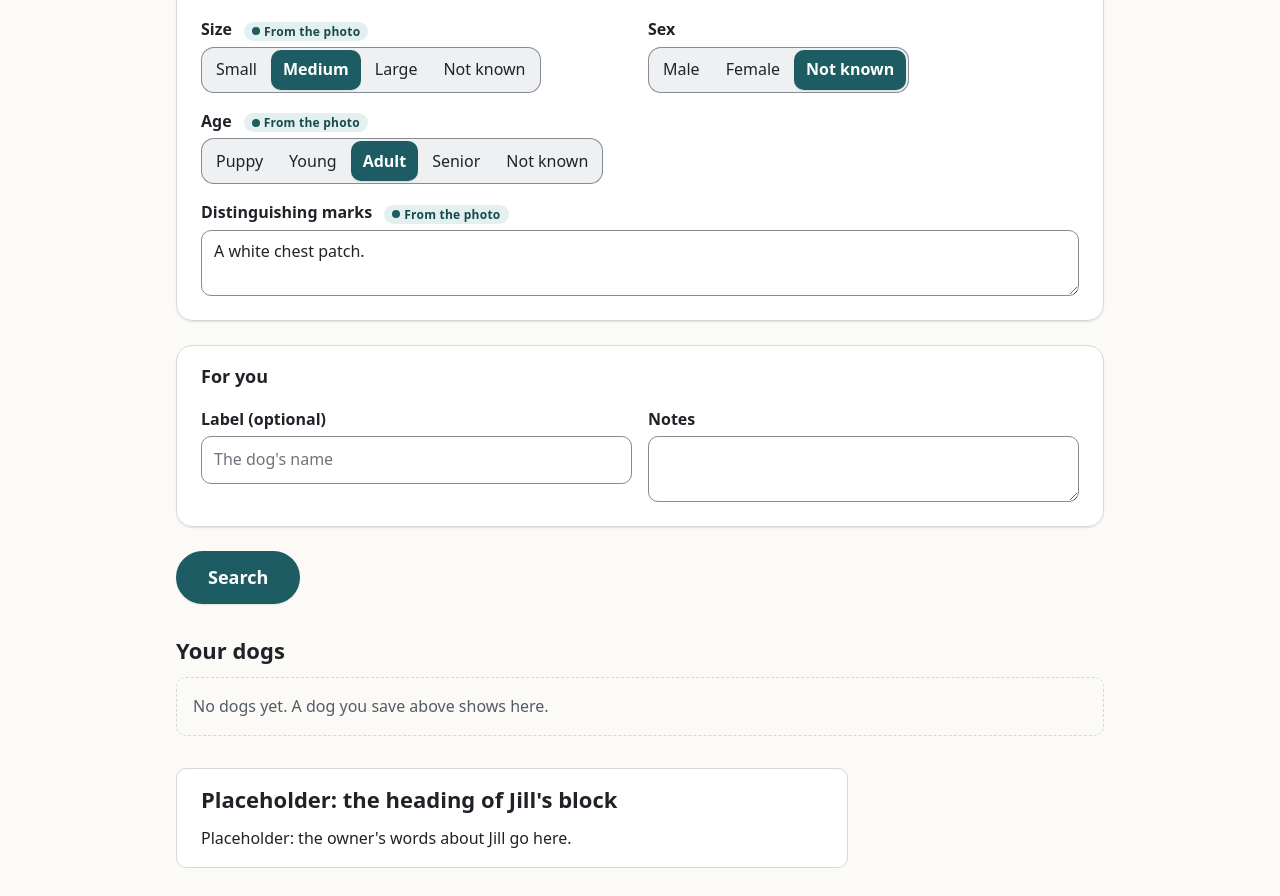
it: a photo that fills in the traits › never fills the town or the time: it asks for them, and the search then runs on the same screen
The image size is (1280, 896).
Earlier steps of the test are not shown.
(page scrolled)
Expected: the field labelled "Label (optional)" is empty, x1=201 y1=436 x2=632 y2=484
Click the button "Search" at (238, 578), box x1=176 y1=551 x2=300 y2=604
(page scrolled)
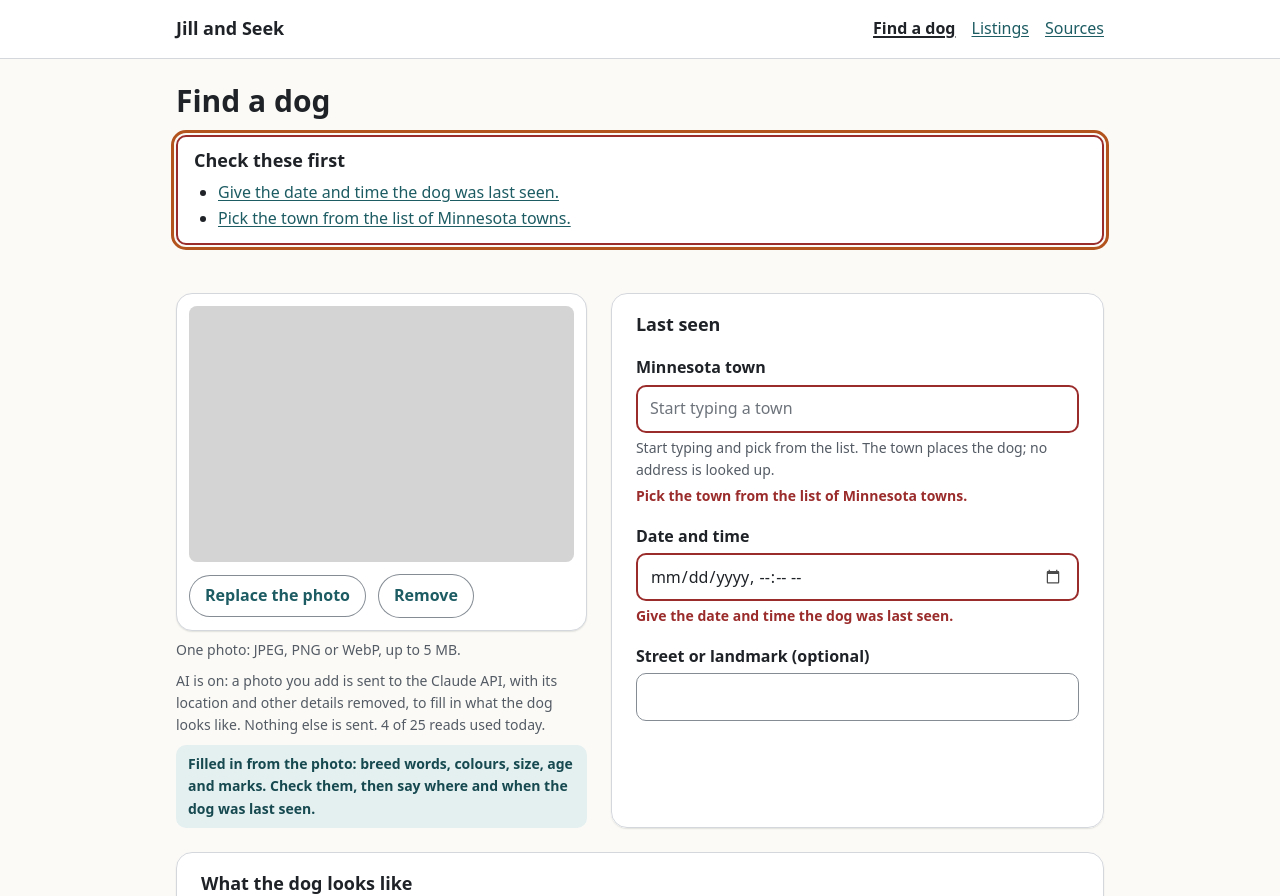
Expected: the message that starts with "Check" shows "Pick the town from the list", x1=218 y1=207 x2=571 y2=229
Expected: the message that starts with "Check" shows "Give the date and time", x1=218 y1=181 x2=559 y2=203
Type "Ada" into the dropdown labelled "Minnesota town" at (857, 409), box x1=636 y1=385 x2=1079 y2=433
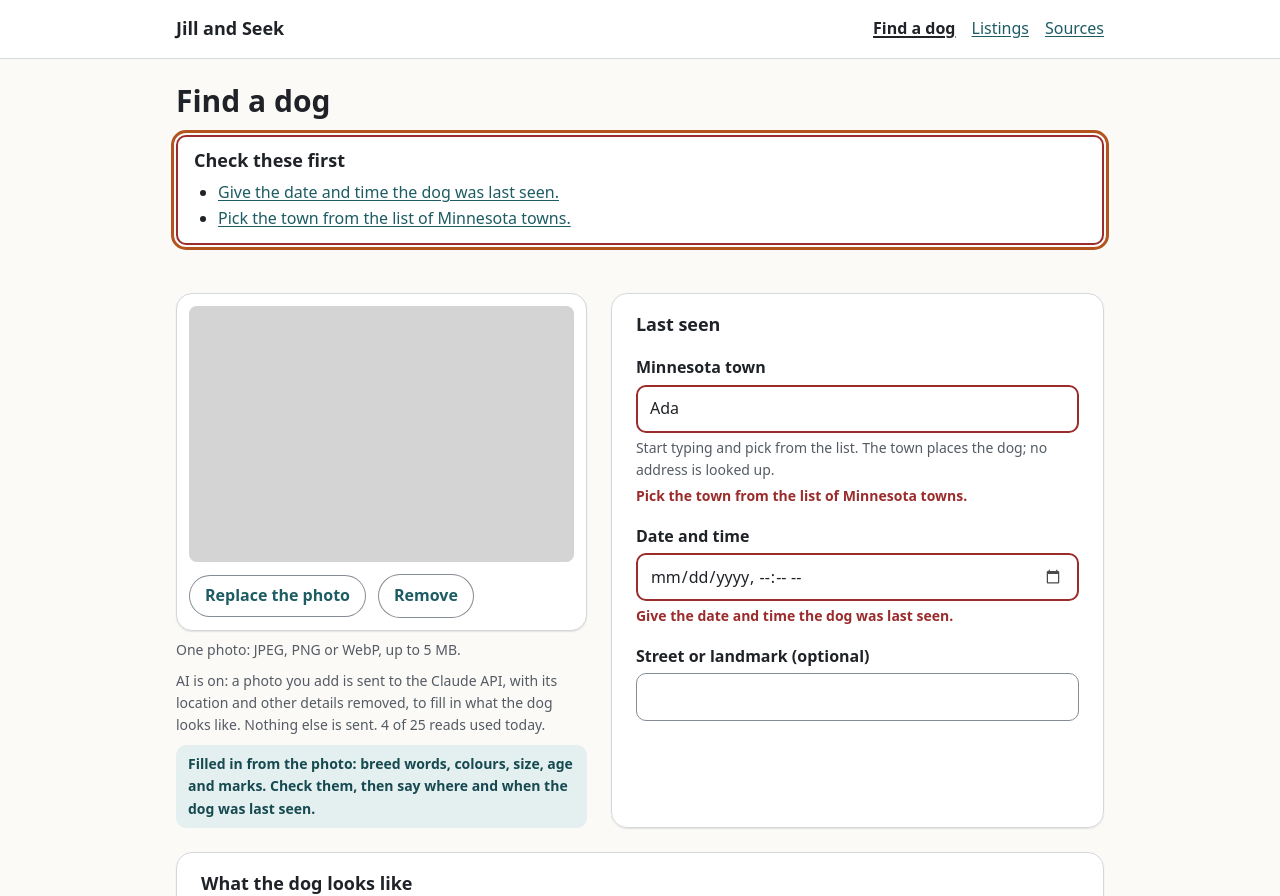
Type "2026-01-10T06:00" into the field labelled "Date and time" at (857, 577), box x1=636 y1=553 x2=1079 y2=601
(page scrolled)
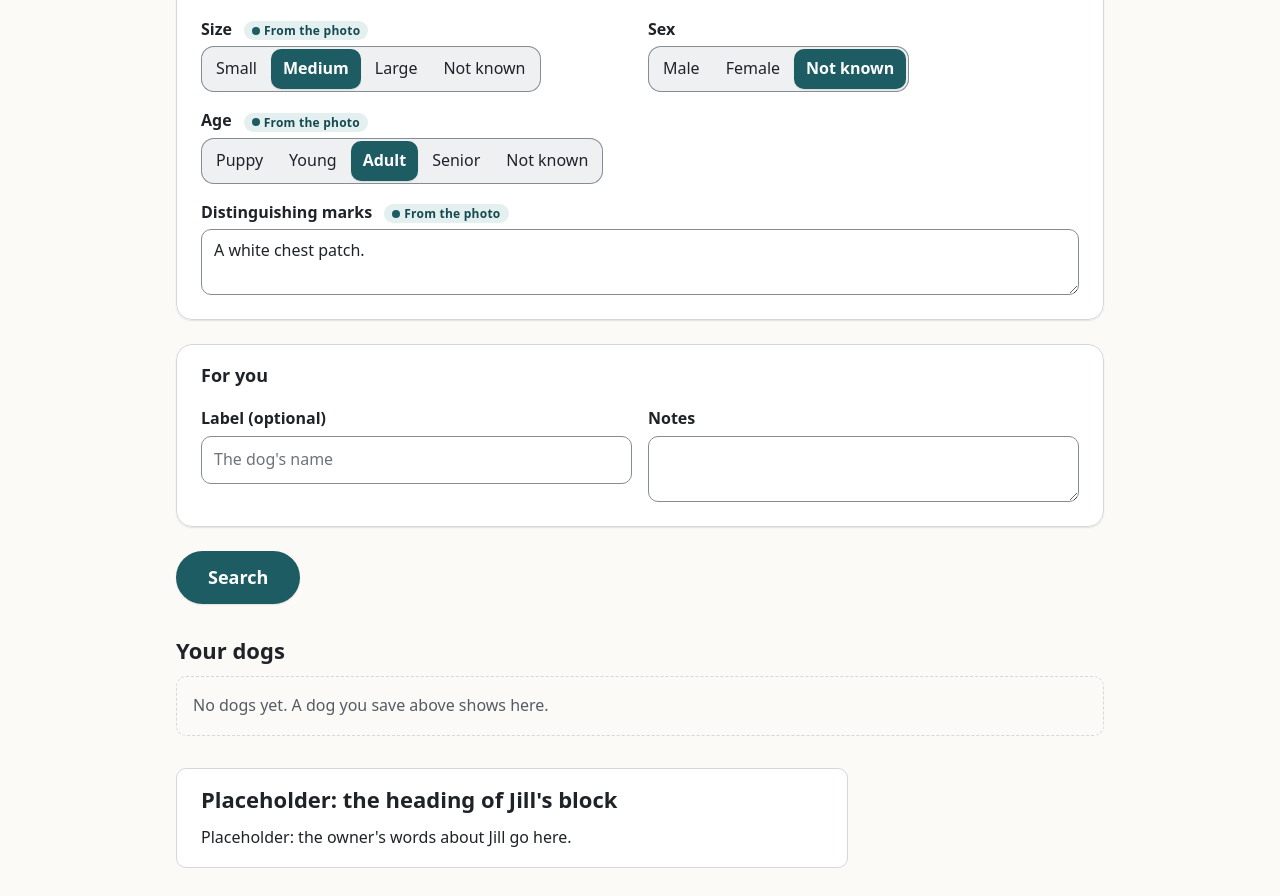
Click the button "Search" at (238, 577), box x1=176 y1=551 x2=300 y2=604
(page scrolled)
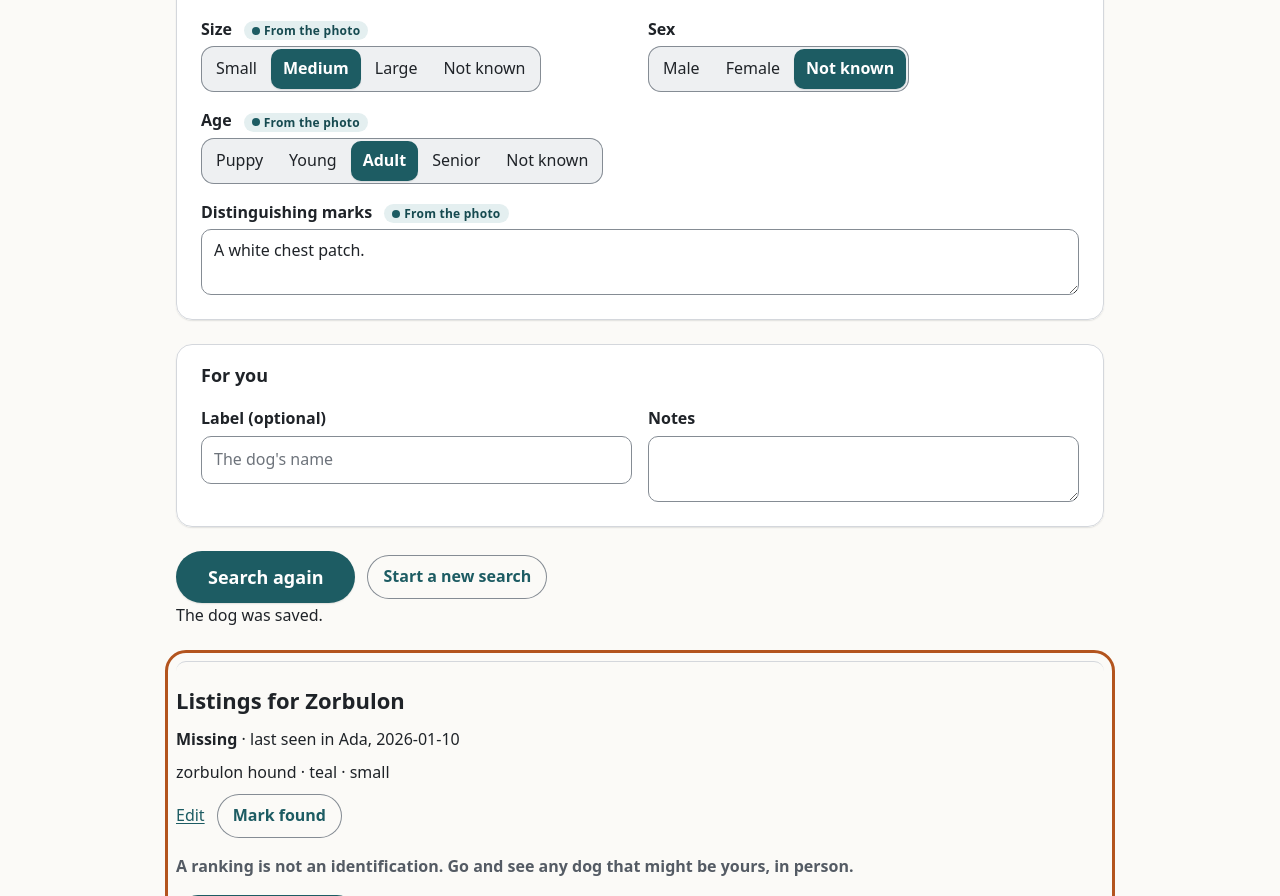
Expected: the heading "Listings for Zorbulon" is shown, x1=176 y1=685 x2=405 y2=715
